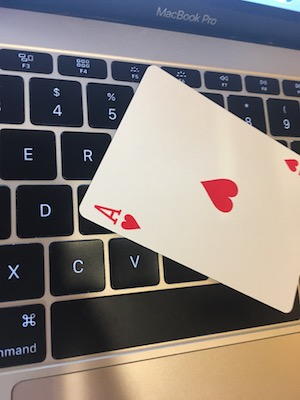AceOfHearts: (82, 60, 300, 324)
